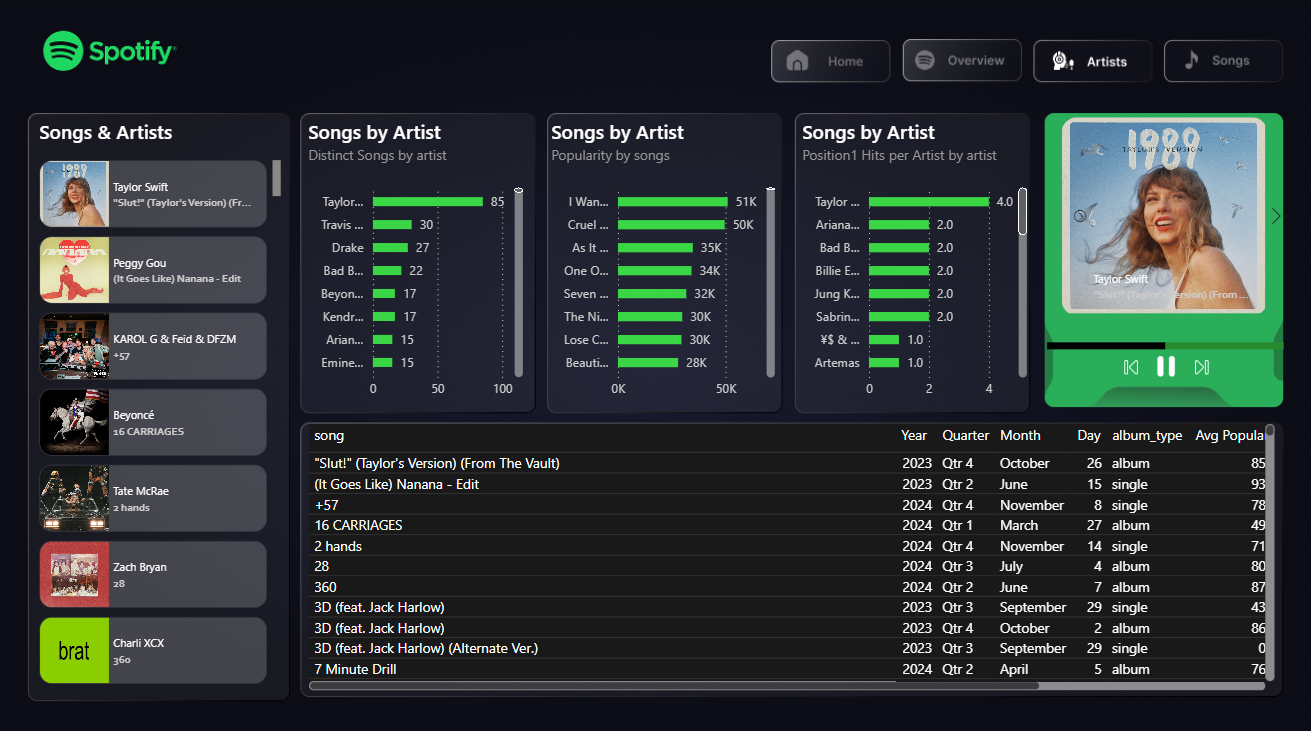

The page's visual inventory and layout, read from the dashboard file:
{"tool":"powerbi","page":{"name":"Artist","canvas":[1280,720],"ordinal":2},"visuals":[{"type":"actionButton","box":[753.8,39.6,115.8,40.6],"z":0},{"type":"actionButton","box":[881.2,39.9,110.9,39.9],"z":1000},{"type":"actionButton","box":[1009.6,39.9,110.9,39.9],"z":2000},{"type":"actionButton","box":[1136,39.9,110.9,39.9],"z":3000},{"type":"advancedSlicerVisual","title":"Songs & Artists","fields":{"Values":["Top-50-World.song"],"Label":["_Measures.Avg Popularity"]},"box":[1010.6,108.9,250.9,203.3],"z":4000},{"type":"hundredPercentStackedBarChart","fields":{"Y":["_Measures.Avg Popularity Explicit","Avg(Top-50-World.popularity)"]},"box":[1017.4,302.5,240.2,63.2],"z":5000},{"type":"image","box":[1115.6,347.2,44.7,20.4],"z":6000},{"type":"image","box":[1160.4,350.2,25.3,15.6],"z":7000},{"type":"image","box":[1083.5,350.2,40.9,15.6],"z":8000},{"type":"advancedSlicerVisual","title":"Songs & Artists","fields":{"Values":["Top-50-World.song"]},"box":[37,115.7,245.1,562.2],"z":9000},{"type":"shape","box":[1030,108.9,212,284],"z":10000},{"type":"tableEx","fields":{"Values":["Top-50-World.song","Top-50-World.release_date.Variation.Date Hierarchy.Year","Top-50-World.release_date.Variation.Date Hierarchy.Quarter","Top-50-World.release_date.Variation.Date Hierarchy.Month","Top-50-World.release_date.Variation.Date Hierarchy.Day","Top-50-World.album_type","_Measures.Avg Popularity","Top-50-World.Max Popularity","Top-50-World.Average Duration Minutes"]},"box":[298.7,408.4,949.8,269.2],"z":11000},{"type":"clusteredBarChart","title":"Songs by Artist","fields":{"Category":["Top-50-World.artist"],"Y":["_Measures.Distinct Songs"]},"box":[298.5,115.7,218.8,281.1],"z":12000},{"type":"clusteredBarChart","title":"Songs by Artist","fields":{"Category":["Top-50-World.song"],"Y":["Sum(Top-50-World.popularity)"]},"box":[535.4,115.8,227.6,281.4],"z":13000},{"type":"clusteredBarChart","title":"Songs by Artist","fields":{"Category":["Top-50-World.artist"],"Y":["Top-50-World.Position1 Hits per Artist"]},"box":[779.2,115.8,228.6,281.4],"z":14000}]}

Visuals, with their boxes in screenshot pixels (x1, y1, x2, y2), scaled from the page's 1280x720 canvas onto the 1311x731 screenshot:
actionButton: locate(772, 40, 891, 81)
actionButton: locate(903, 41, 1016, 81)
actionButton: locate(1034, 41, 1148, 81)
actionButton: locate(1164, 41, 1277, 81)
"Songs & Artists" advancedSlicerVisual: locate(1035, 111, 1292, 317)
hundredPercentStackedBarChart - _Measures.Avg Popularity Explicit x Avg(Top-50-World.popularity): locate(1042, 307, 1288, 371)
image: locate(1143, 353, 1188, 373)
image: locate(1189, 356, 1214, 371)
image: locate(1110, 356, 1152, 371)
"Songs & Artists" advancedSlicerVisual: locate(38, 117, 289, 688)
shape: locate(1055, 111, 1272, 399)
tableEx - Top-50-World.song x Top-50-World.release_date.Variation.Date Hierarchy.Year: locate(306, 415, 1279, 688)
"Songs by Artist" clusteredBarChart: locate(306, 117, 530, 403)
"Songs by Artist" clusteredBarChart: locate(548, 118, 781, 403)
"Songs by Artist" clusteredBarChart: locate(798, 118, 1032, 403)
